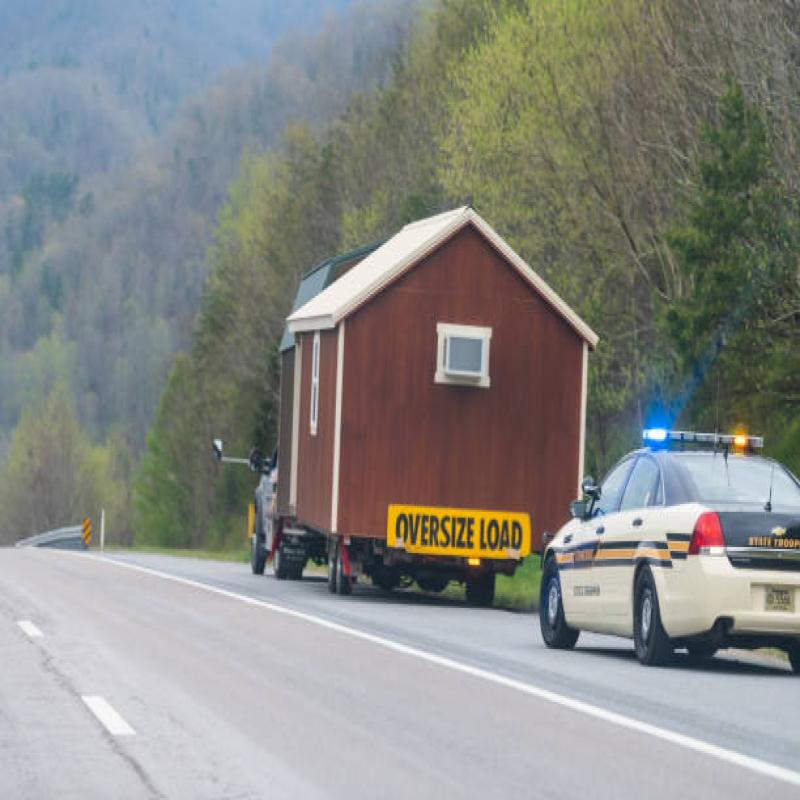AmbulanceSiren: (636, 406, 775, 462)
car: (529, 437, 800, 672)
